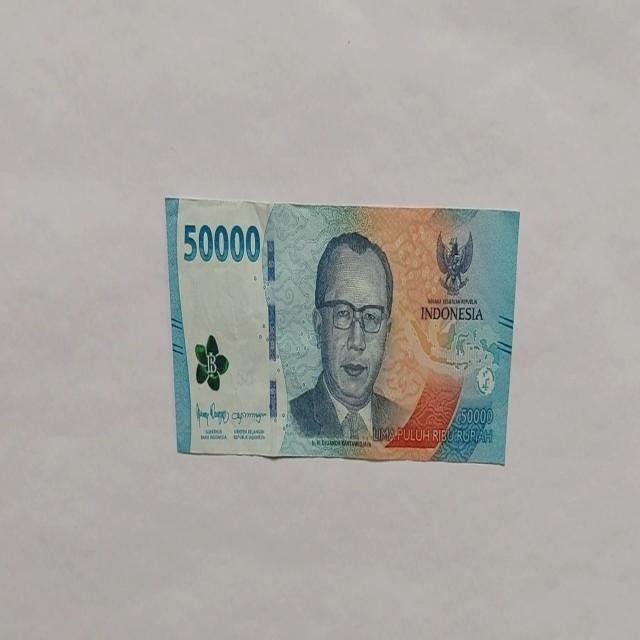lima puluh ribu rupiah: (165, 196, 520, 464), (282, 229, 410, 448)
